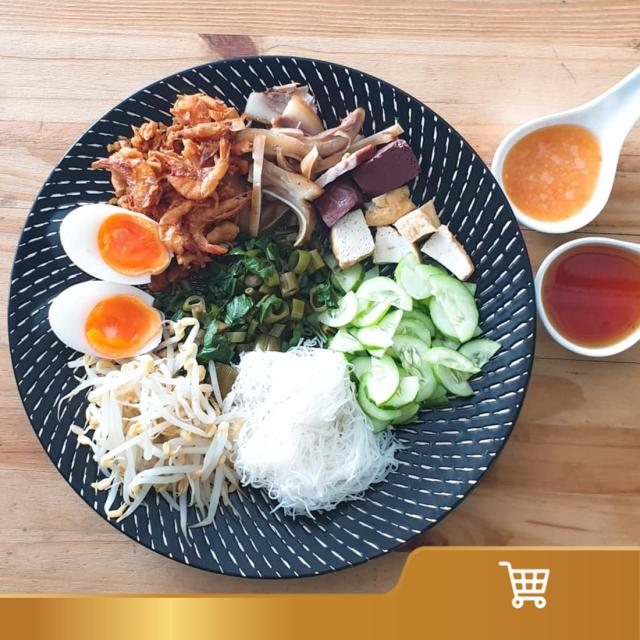Carbohydrate: (229, 348, 401, 516)
Protein: (115, 81, 477, 269), (45, 202, 176, 365)
Taokua: (32, 69, 542, 585)
Vegetable: (182, 239, 494, 418), (74, 346, 236, 530)
